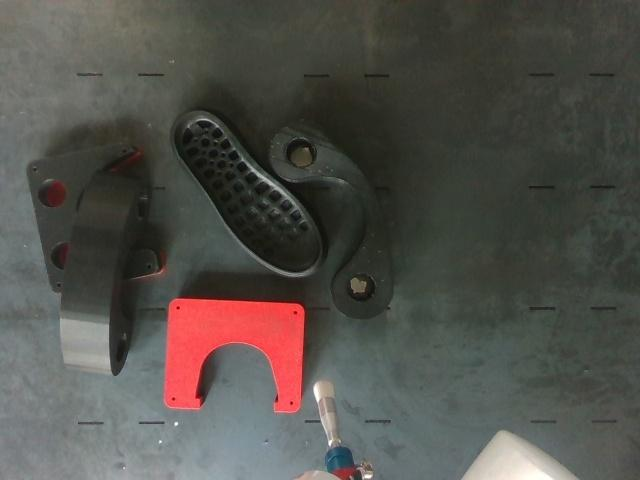shoes: (172, 111, 322, 276)
